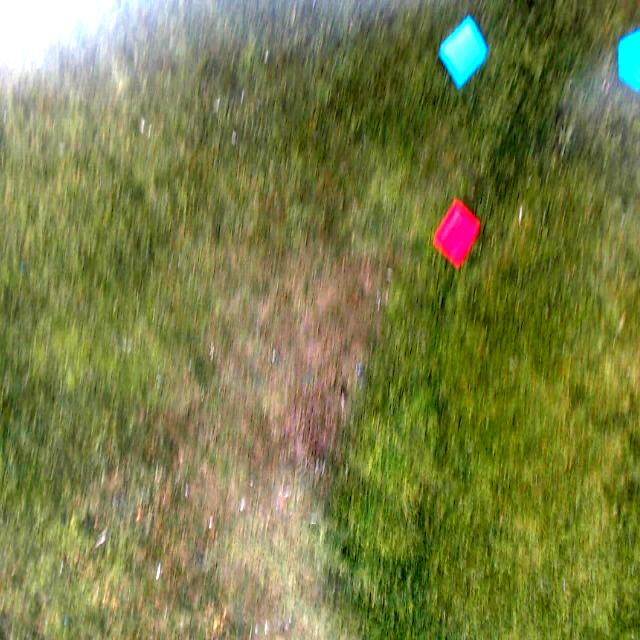blue_square: (441, 18, 486, 86)
red_square: (434, 200, 479, 266)
